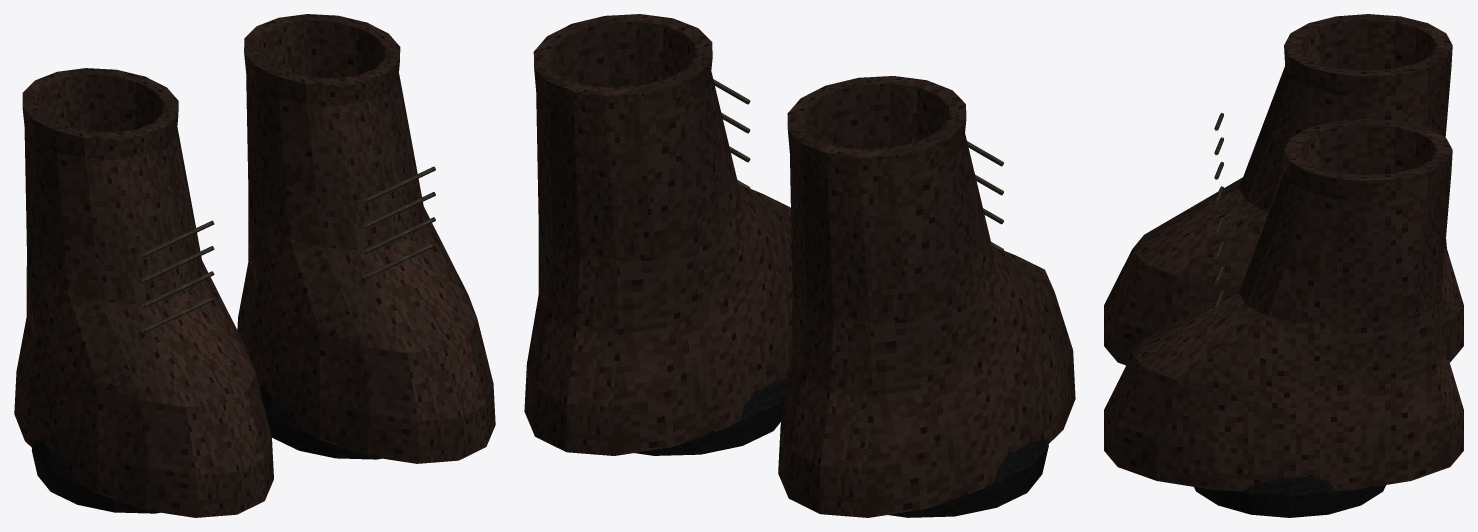
File: level_story_work_boots_worn.glb
The picture shows the model from 3 angles, left to right: view 1: azimuth 30°, elevation 25°; view 2: azimuth 150°, elevation 25°; view 3: azimuth 270°, elevation 25°; orthographic projection. The views are drawn at different scales.
Visible parts, largest first — view 1: level_story_work_boots_worn; view 2: level_story_work_boots_worn; view 3: level_story_work_boots_worn.
Boxes of the visible parts, x1=… form: level_story_work_boots_worn: x1=14, y1=14, x2=495, y2=517; level_story_work_boots_worn: x1=524, y1=14, x2=1075, y2=517; level_story_work_boots_worn: x1=1104, y1=14, x2=1463, y2=517.
Bounding box in the file's own units: 0.41 × 0.319 × 0.32.
Materials: 3 (3 with a texture image).
